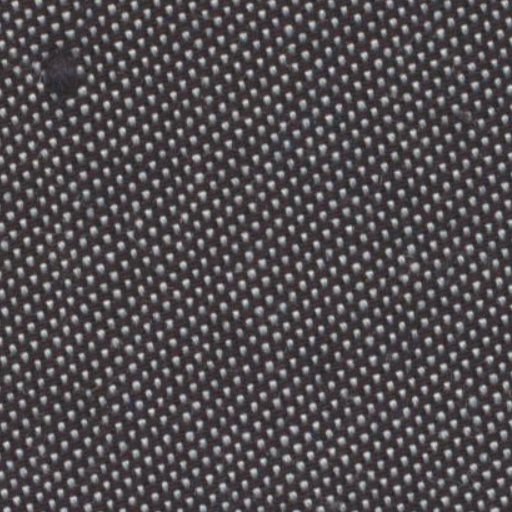MianQiu: (25, 30, 100, 107)
